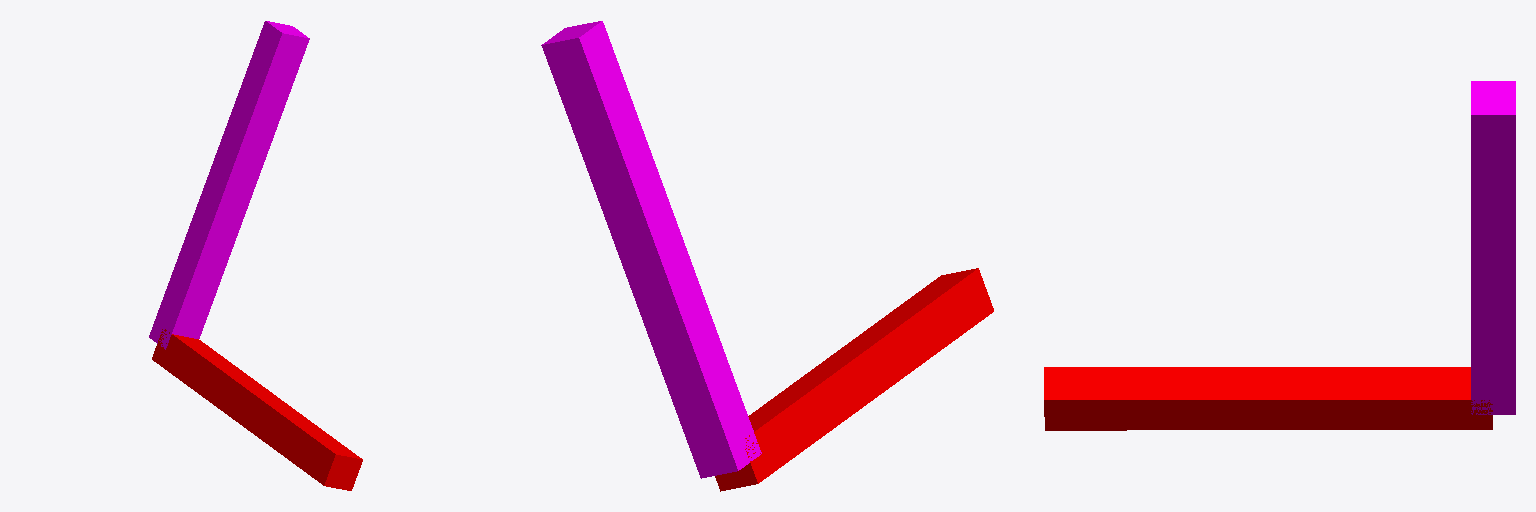
robot.urdf — DoublePendulum:
<?xml version="1.0"?>

<robot name="DoublePendulum">
	<link name="base_link">
	</link>

  <link name="link1">
    <inertial>
      <origin xyz="0 0 -0.5" rpy="1.5707963268 0. 0." />
      <mass value="1" />
      <inertia ixx=".0841667" ixy="0" ixz="0" iyy=".0841667" iyz="0" izz=".00166667" />
    </inertial>
    <visual>
      <origin xyz="0 0 -0.5" rpy="1.5707963268 0. 0." />
      <geometry>
         <!-- <cylinder length="1" radius=".05" /> -->
         <box size=".1 1 .1" />
      </geometry>
      <material name="green">
	       <color rgba="1 0 1 1" />
      </material>
    </visual>
  </link>

  <link name="link2">
    <inertial>
      <origin xyz="0 0.5 0." rpy="1.5707963268 0. 0." />
      <mass value="1" />
      <inertia ixx=".0841667" ixy="0" ixz="0" iyy=".0841667" iyz="0" izz=".00166667" />
    </inertial>
    <visual>
      <origin xyz="0 0.5 0." rpy="1.57 0 0." />
      <geometry>
         <box size="0.1 0.1 1" />
      </geometry>
      <material name="green">
	       <color rgba="1 0 0 1" />
      </material>
    </visual>
  </link>

	

	<joint name="joint1" type="continuous">
		<parent link="base_link" />
		<child link="link1" />
		<origin rpy="0.4 0 1.5707963268" xyz="0 1 0" />
		<axis xyz="1 0 0" />
	</joint>

  <joint name="joint2" type="continuous">
		<parent link="link1" />
		<child link="link2" />
		<origin rpy="0 0 1.5707963268" xyz="0 0 -1" />
		<axis xyz="1 0 0" />
	</joint>

	

</robot>

--- What the picture shows (computed from the rendered views, not written in the file) ---
The picture shows the robot from 3 angles, left to right: view 1: azimuth 30°, elevation 25°; view 2: azimuth 150°, elevation 25°; view 3: azimuth 270°, elevation 25°; orthographic projection.
Robot: DoublePendulum — 3 links, 2 joints (2 continuous); root link base_link; default pose: every joint at zero.
Visible links, largest first — view 1: link1, link2; view 2: link1, link2; view 3: link2, link1.
Boxes of the visible links, x1,y1,x2,y2 form: link1: [149, 21, 309, 349]; link2: [152, 329, 362, 490]; link1: [541, 21, 761, 478]; link2: [715, 268, 993, 491]; link2: [1044, 367, 1492, 430]; link1: [1471, 81, 1515, 414].
Bounding box of the posed robot: 0.5012 × 1.05 × 1.01 m (x, y, z).
Geometry: primitives only (box / cylinder / sphere), no mesh files.